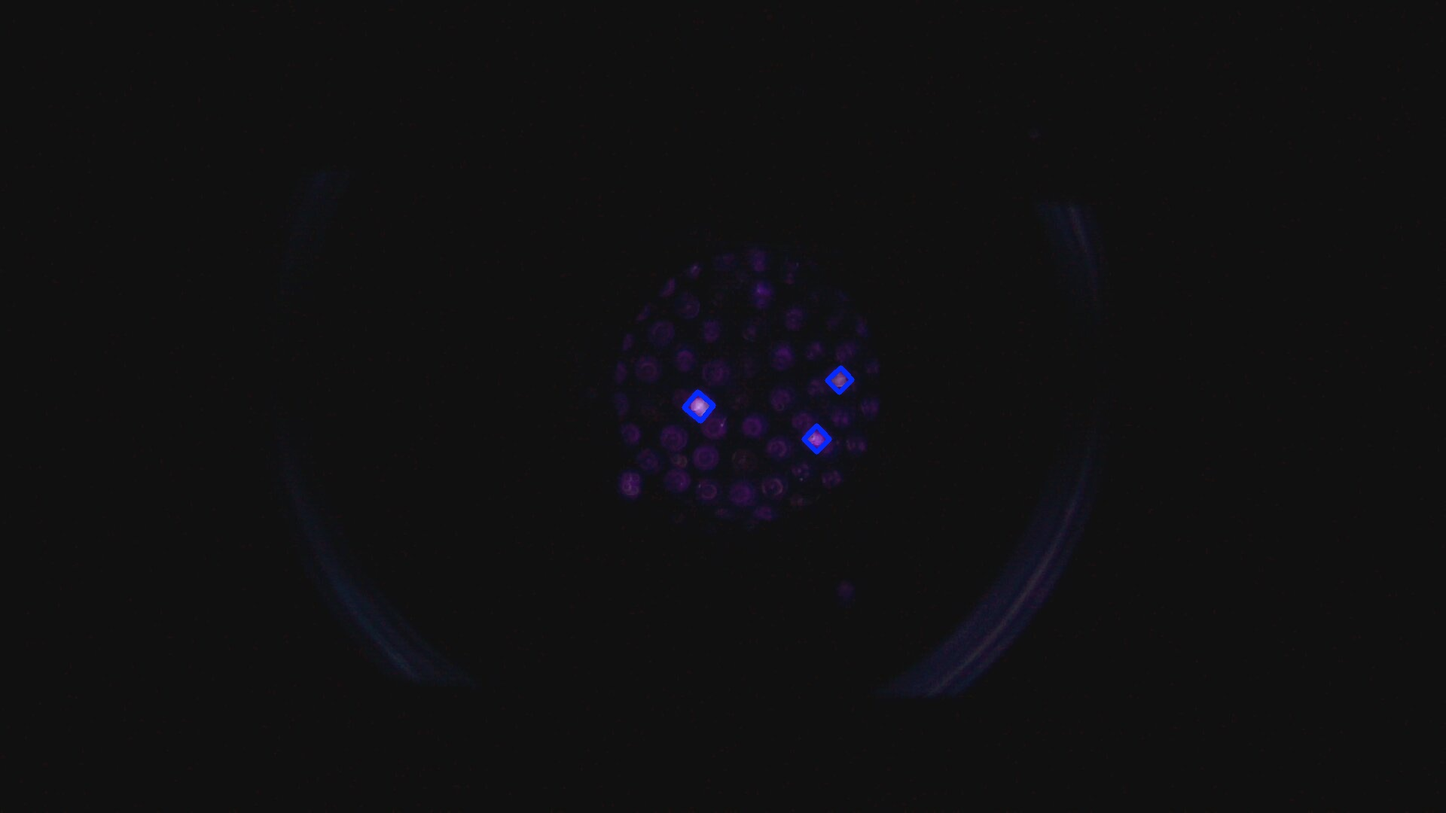plastic: (678, 385, 720, 427)
